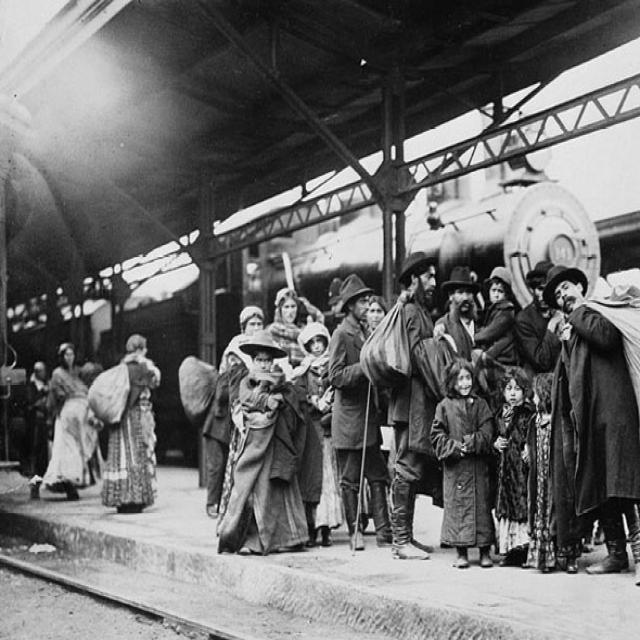body: (539, 263, 640, 588), (358, 249, 445, 563), (210, 325, 312, 560), (325, 270, 395, 552), (428, 357, 494, 571), (295, 319, 345, 546), (100, 333, 162, 515), (175, 344, 235, 520), (491, 366, 538, 569), (40, 342, 99, 502), (520, 370, 556, 574), (513, 257, 567, 377), (431, 262, 484, 364), (473, 264, 520, 368), (22, 360, 54, 502), (216, 303, 267, 377), (78, 426, 112, 498), (264, 285, 304, 345), (318, 270, 355, 332), (76, 348, 107, 390), (362, 290, 388, 336)
